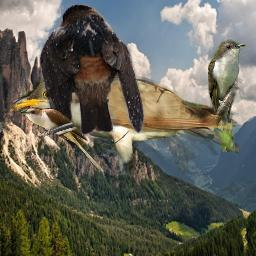Cuckoo: (8, 74, 239, 184), (19, 107, 106, 173), (208, 37, 246, 152)
Swallow: (39, 4, 145, 150)
